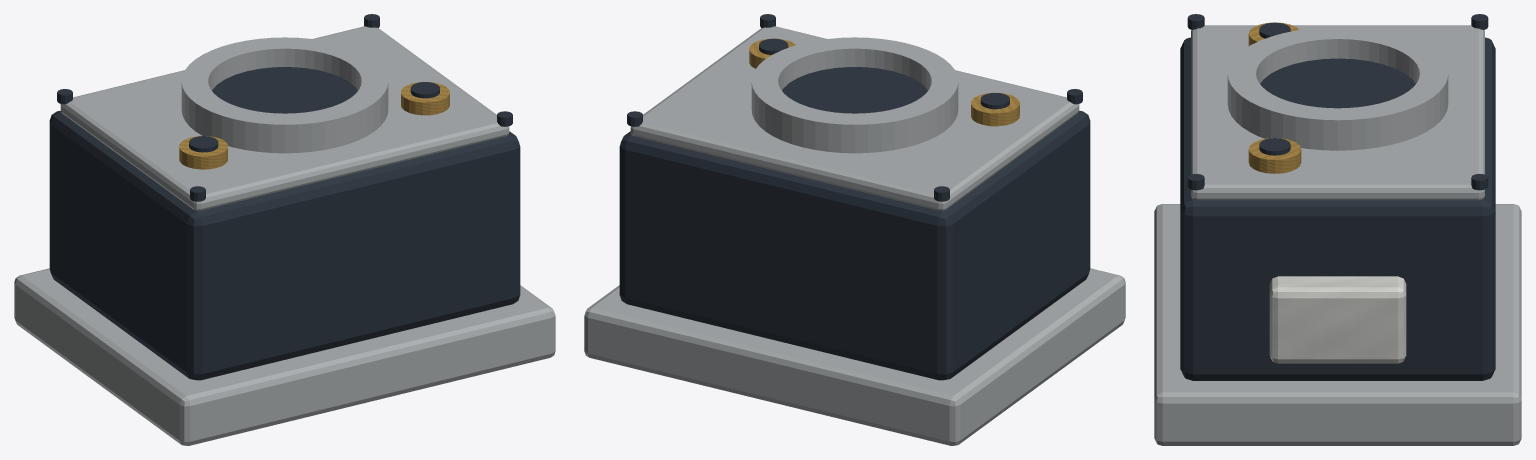
File: probe_laser_altimeter.glb
3 renders of one model, left to right at view 1: azimuth 30°, elevation 25°; view 2: azimuth 150°, elevation 25°; view 3: azimuth 270°, elevation 25°, orthographic. The views are drawn at different scales.
Visible parts, largest first — view 1: Lidar_Instrument, Lidar_Base, Lidar_TopPlate, Receiver_ApertureRim, Receiver_OpticalWindow, Laser_TransmitterRing, Laser_TransmitterRing.001; view 2: Lidar_Instrument, Lidar_Base, Lidar_TopPlate, Receiver_ApertureRim, Receiver_OpticalWindow, Laser_TransmitterRing; view 3: Lidar_Instrument, Lidar_Base, Lidar_TopPlate, Receiver_ApertureRim, ElectricalConnector, Receiver_OpticalWindow, Laser_TransmitterRing.001, Laser_Optic.001, Laser_Optic.
Boxes of the visible parts, left/top/right/bottom form: Lidar_Instrument: left=49, top=110, right=520, bottom=380; Lidar_Base: left=14, top=268, right=555, bottom=445; Lidar_TopPlate: left=60, top=26, right=509, bottom=210; Receiver_ApertureRim: left=181, top=37, right=388, bottom=153; Receiver_OpticalWindow: left=212, top=67, right=357, bottom=113; Laser_TransmitterRing: left=179, top=136, right=227, bottom=169; Laser_TransmitterRing.001: left=401, top=82, right=449, bottom=115; Lidar_Instrument: left=619, top=110, right=1090, bottom=380; Lidar_Base: left=584, top=268, right=1125, bottom=445; Lidar_TopPlate: left=630, top=26, right=1079, bottom=210; Receiver_ApertureRim: left=751, top=37, right=958, bottom=153; Receiver_OpticalWindow: left=782, top=67, right=927, bottom=113; Laser_TransmitterRing: left=971, top=92, right=1019, bottom=126; Lidar_Instrument: left=1180, top=37, right=1495, bottom=380; Lidar_Base: left=1154, top=204, right=1521, bottom=445; Lidar_TopPlate: left=1191, top=25, right=1484, bottom=200; Receiver_ApertureRim: left=1227, top=27, right=1448, bottom=150; ElectricalConnector: left=1269, top=276, right=1406, bottom=363; Receiver_OpticalWindow: left=1260, top=58, right=1415, bottom=108; Laser_TransmitterRing.001: left=1248, top=138, right=1301, bottom=173; Laser_Optic.001: left=1259, top=138, right=1290, bottom=155; Laser_Optic: left=1259, top=22, right=1290, bottom=38.
Size of the model in its own units: 0.4475 by 0.292 by 0.35.
4 materials, 2 textured.
